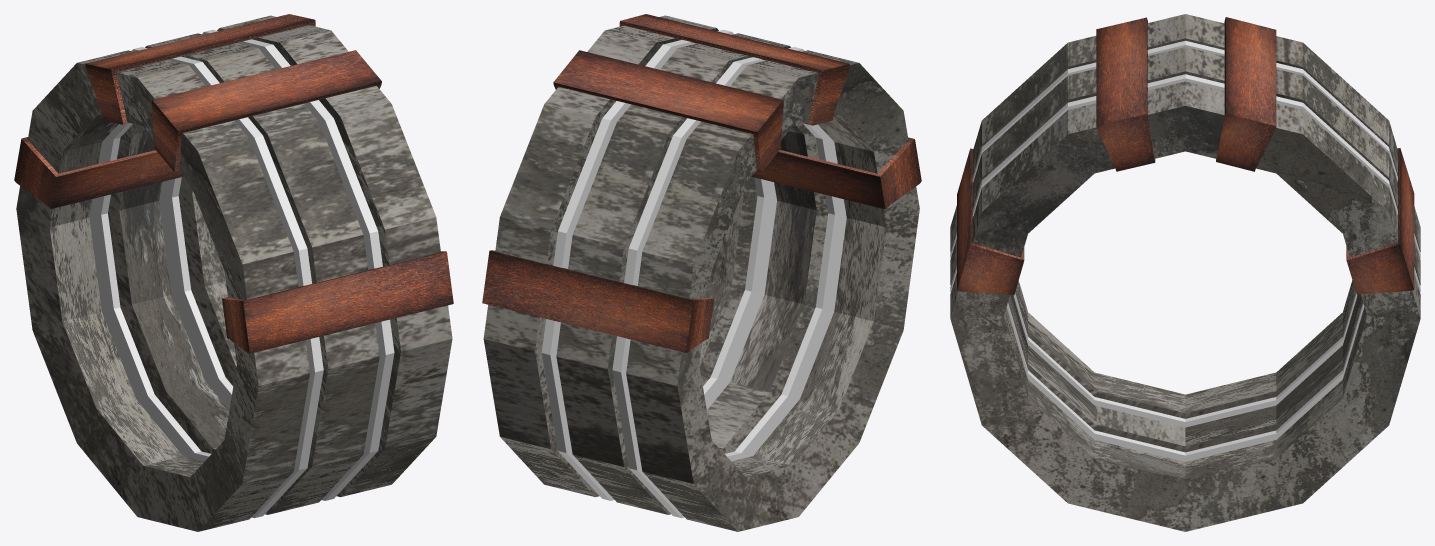
File: PORTALNEW.fbx
3 views of the same model, side by side, from view 1: azimuth 30°, elevation 25°; view 2: azimuth 150°, elevation 25°; view 3: azimuth 270°, elevation 25° (orthographic). The views are drawn at different scales.
Parts seen in each view (by area): view 1: RINGPORTALL; view 2: RINGPORTALL; view 3: RINGPORTALL.
Boxes of the visible parts, x1,y1,x2,y2 form: RINGPORTALL: (14,14,453,531); RINGPORTALL: (482,14,921,531); RINGPORTALL: (950,14,1420,531).
Bounding box in the file's own units: 2263 × 4659 × 4659.
3 materials, 2 textured.
